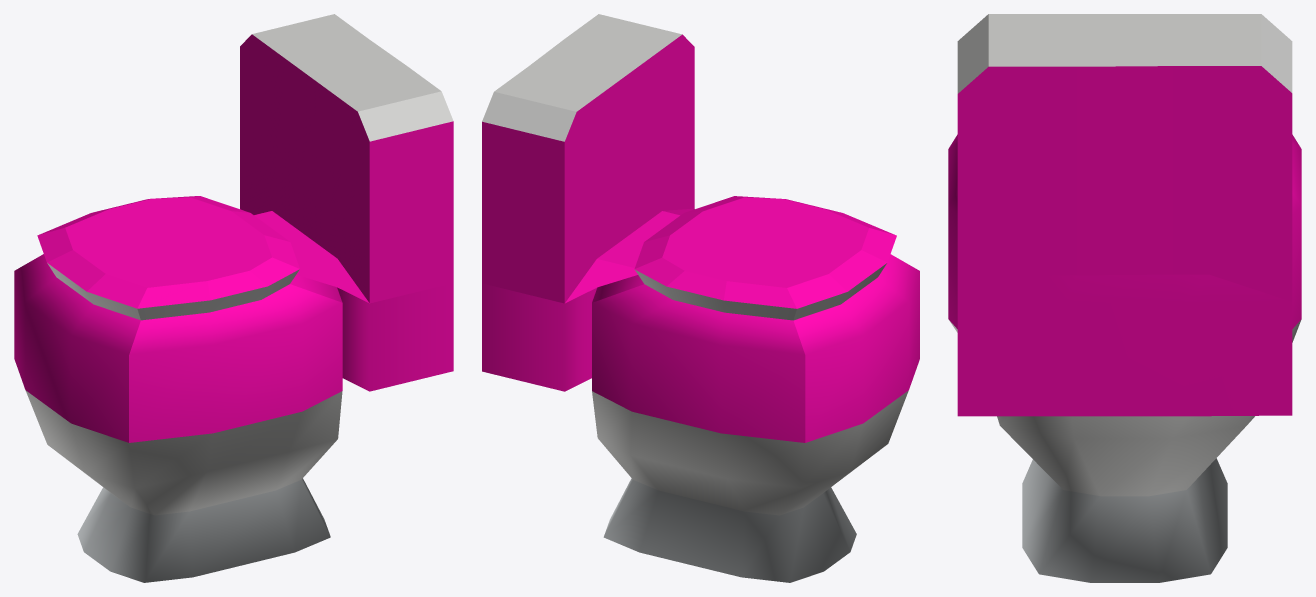
Rendered from toliet.fbx.
3 views of the same model, side by side, from view 1: azimuth 30°, elevation 25°; view 2: azimuth 150°, elevation 25°; view 3: azimuth 270°, elevation 25° (orthographic). The views are drawn at different scales.
Visible parts, largest first — view 1: pCube4; view 2: pCube4; view 3: pCube4.
Part boxes in pixels (x1,y1,x2,y2): pCube4: (14, 14, 453, 582); pCube4: (482, 14, 919, 582); pCube4: (948, 14, 1301, 582).
Size of the model in its own units: 2.13 by 2.62 by 1.49.
